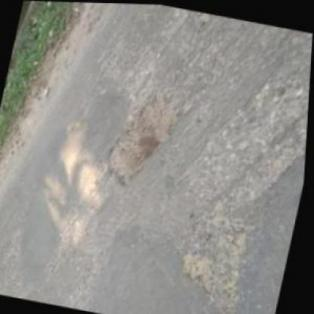Hueco: (103, 80, 187, 193), (176, 247, 224, 294)
